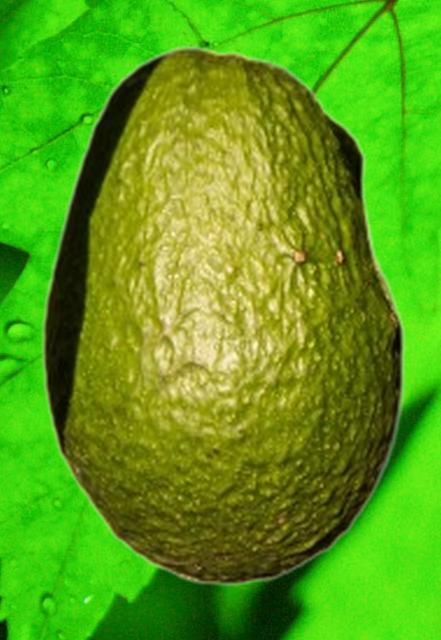avocado: (41, 44, 405, 586)
